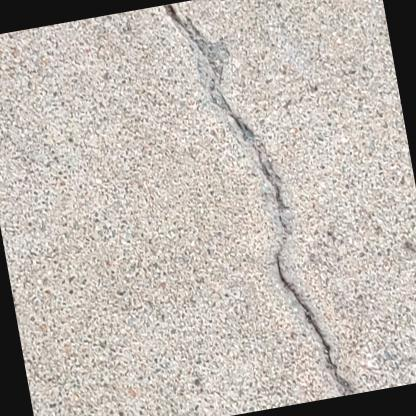crack: (154, 3, 353, 395)
